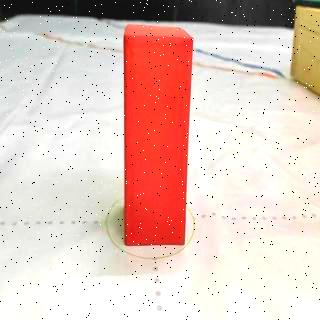redbox: (122, 23, 194, 245)
